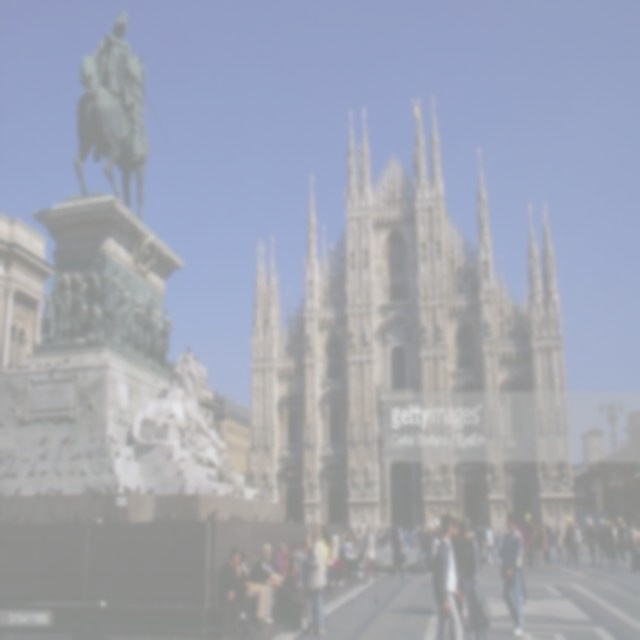pessoa: (39, 266, 175, 364), (72, 2, 147, 137), (430, 511, 464, 639), (296, 518, 328, 638), (245, 538, 286, 626), (217, 544, 254, 638), (499, 510, 525, 637), (457, 516, 483, 640), (238, 544, 268, 630), (308, 520, 329, 636), (275, 560, 305, 634), (326, 532, 364, 587), (448, 516, 464, 640), (274, 540, 308, 594), (536, 451, 576, 494), (512, 514, 530, 607), (532, 401, 574, 439), (422, 452, 455, 498), (252, 540, 282, 590), (417, 404, 457, 440), (344, 413, 380, 445), (346, 458, 381, 490), (388, 518, 406, 580), (362, 522, 379, 586), (246, 416, 278, 448), (486, 449, 506, 496), (382, 600, 437, 617), (566, 520, 584, 568), (481, 404, 506, 438), (596, 516, 612, 568), (604, 520, 620, 570), (609, 520, 627, 562), (584, 516, 598, 568), (616, 514, 629, 568), (486, 522, 500, 568), (524, 512, 535, 570), (563, 514, 575, 566), (628, 518, 639, 574), (477, 522, 488, 574), (414, 524, 428, 564), (301, 474, 321, 500), (544, 518, 554, 564), (402, 524, 418, 552), (491, 526, 507, 552), (540, 522, 549, 566), (262, 460, 273, 494), (433, 518, 441, 564), (389, 240, 402, 266), (382, 526, 392, 558), (421, 314, 430, 346), (249, 462, 259, 490), (634, 522, 640, 568), (534, 520, 540, 564), (484, 312, 494, 336), (428, 90, 437, 114), (343, 529, 353, 550), (436, 316, 444, 342), (553, 519, 562, 542), (349, 323, 357, 348), (409, 365, 417, 390), (348, 524, 355, 552), (540, 199, 547, 227), (363, 324, 372, 344), (346, 106, 353, 130), (526, 198, 533, 222), (412, 98, 419, 121), (379, 370, 387, 388), (454, 346, 460, 368), (427, 520, 434, 538), (357, 522, 362, 547), (476, 144, 482, 164), (308, 282, 314, 302), (386, 522, 396, 534), (361, 105, 367, 124), (308, 172, 314, 190), (420, 244, 426, 262), (482, 186, 488, 203), (345, 520, 352, 534), (362, 253, 368, 269), (256, 234, 261, 253), (308, 328, 312, 351), (285, 280, 290, 298), (270, 232, 276, 247), (260, 241, 266, 256), (350, 255, 356, 270), (483, 524, 490, 536), (482, 263, 487, 279), (435, 240, 439, 256), (319, 217, 323, 232)
